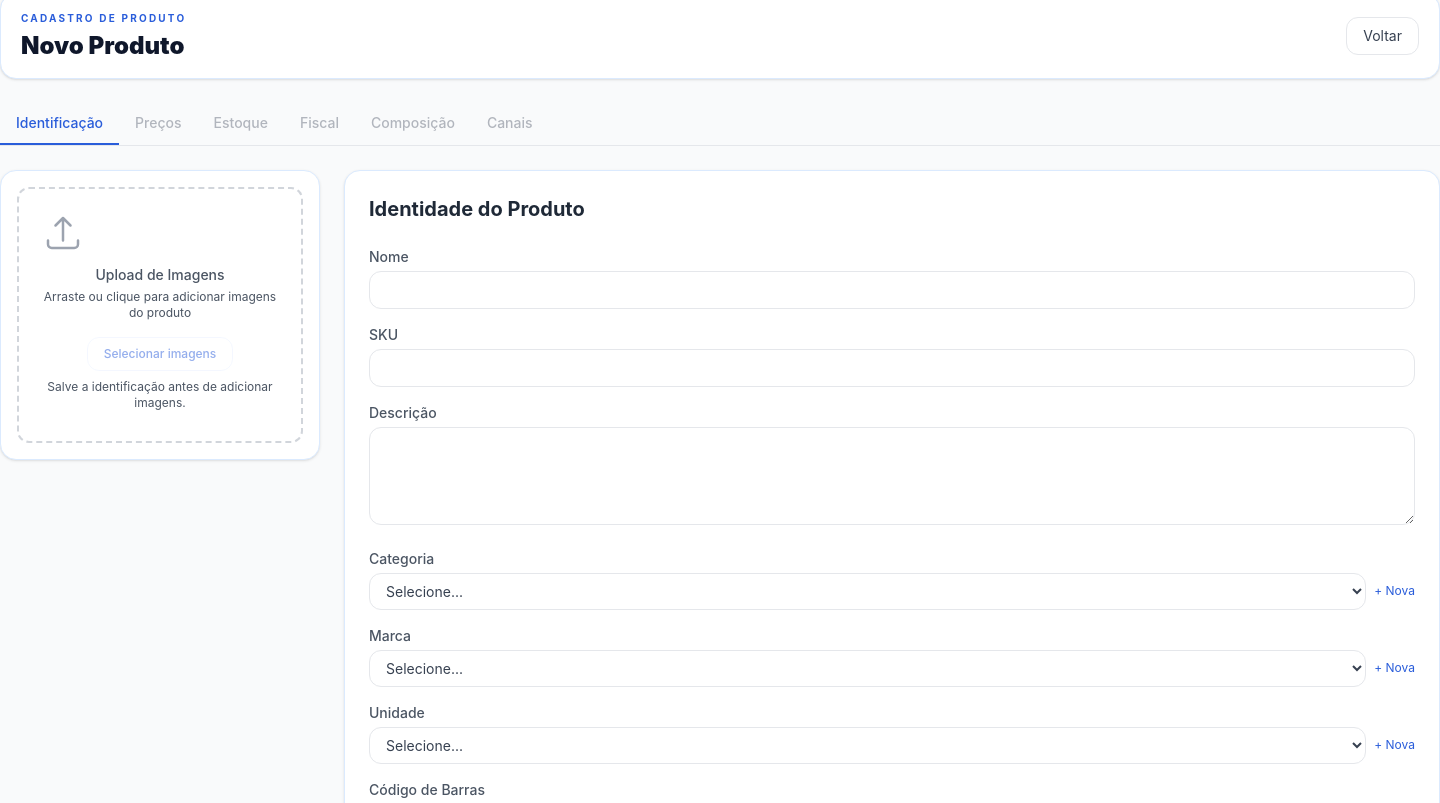
ProductsPage › creates a new product via the editor and enables pricing tab
The image size is (1440, 803).
Type "Produto Novo" into the field labelled "Nome".
click(892, 290); type("Produto Novo")  # box [369,271,1415,309]
(page scrolled)
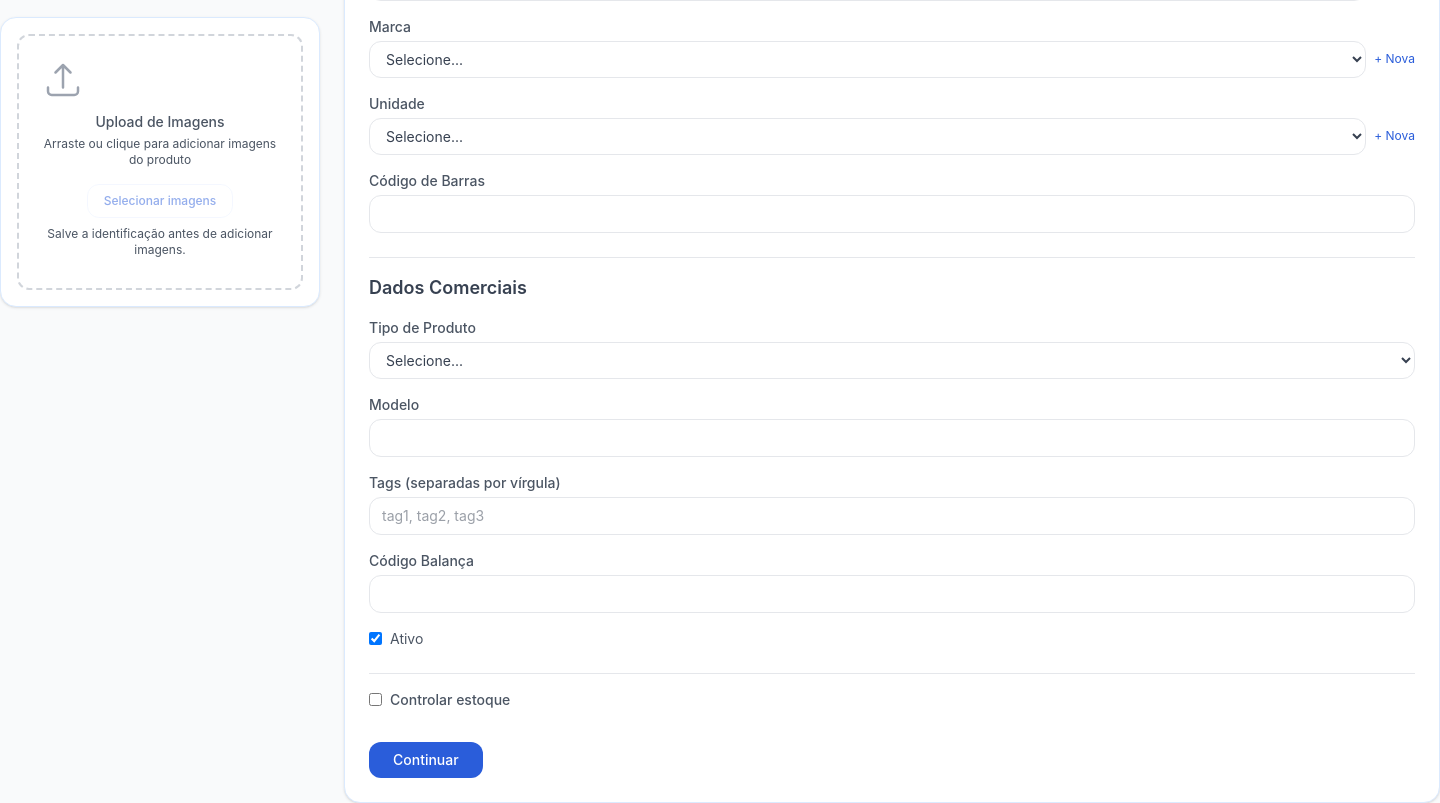
Click the button "Continuar".
click(426, 760)  # box [369,742,483,778]
(page scrolled)
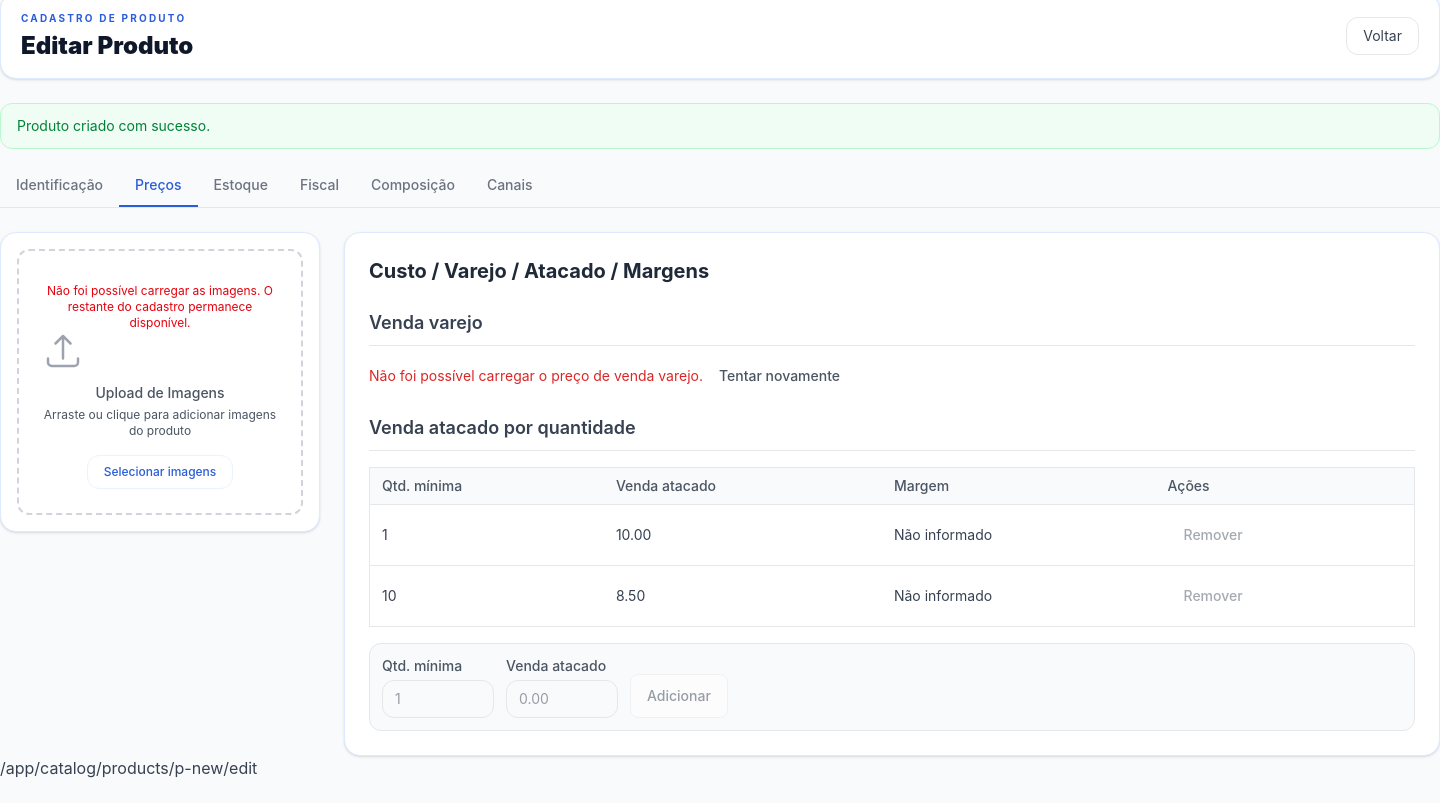
Result: the tab with test id "step-tab-prices" is enabled at [119,165,198,207]
Result: the message with test id "editor-feedback" reads "Produto criado com sucesso." at [17,117,210,134]
